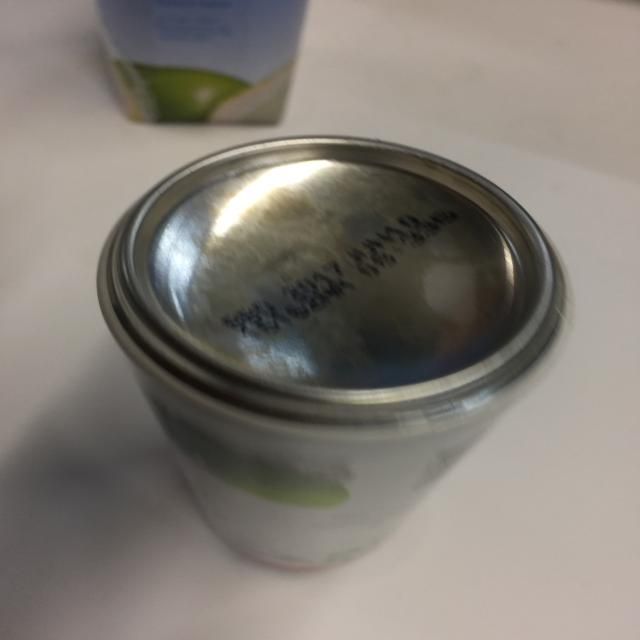metal: (94, 133, 568, 572)
